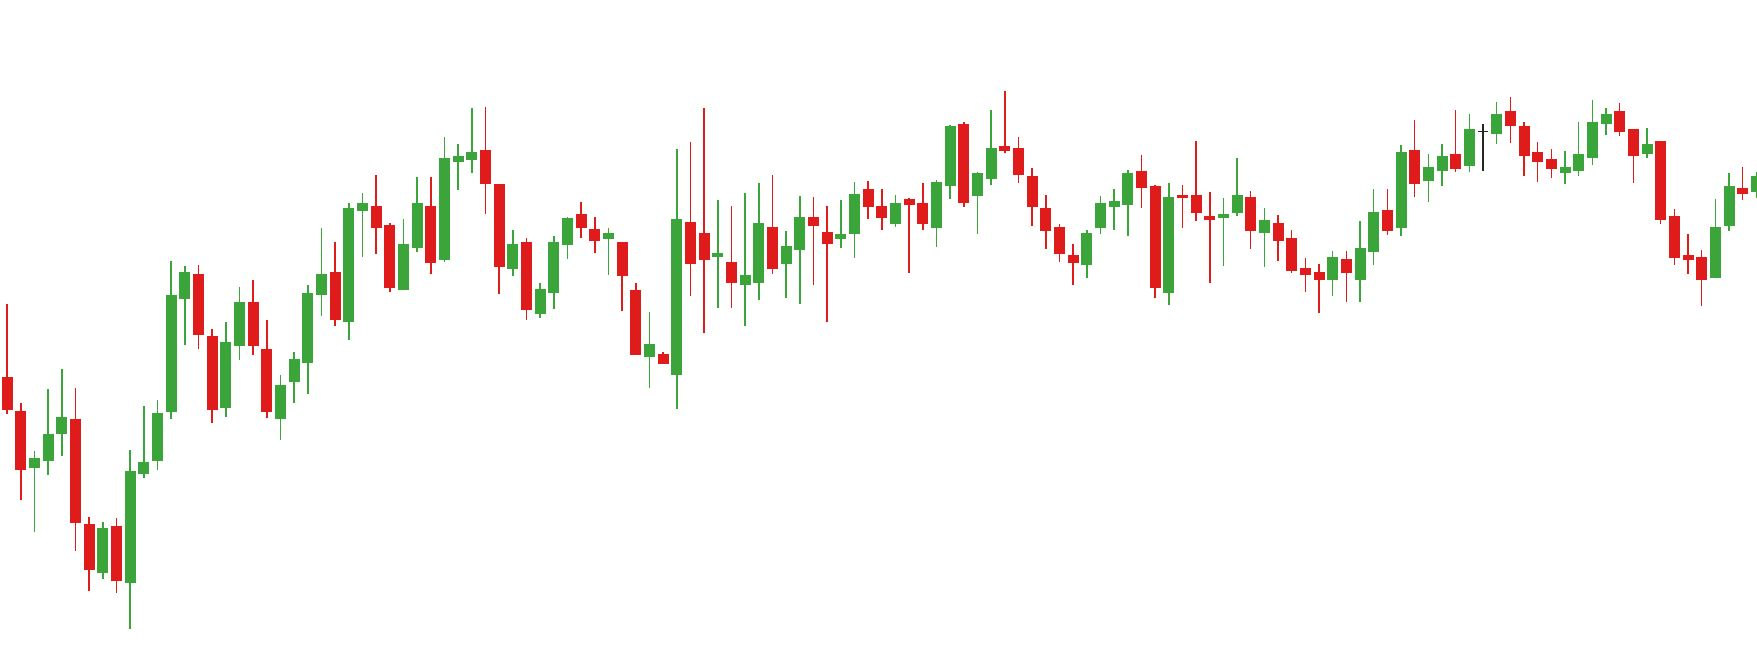buy: (203, 331, 288, 438)
